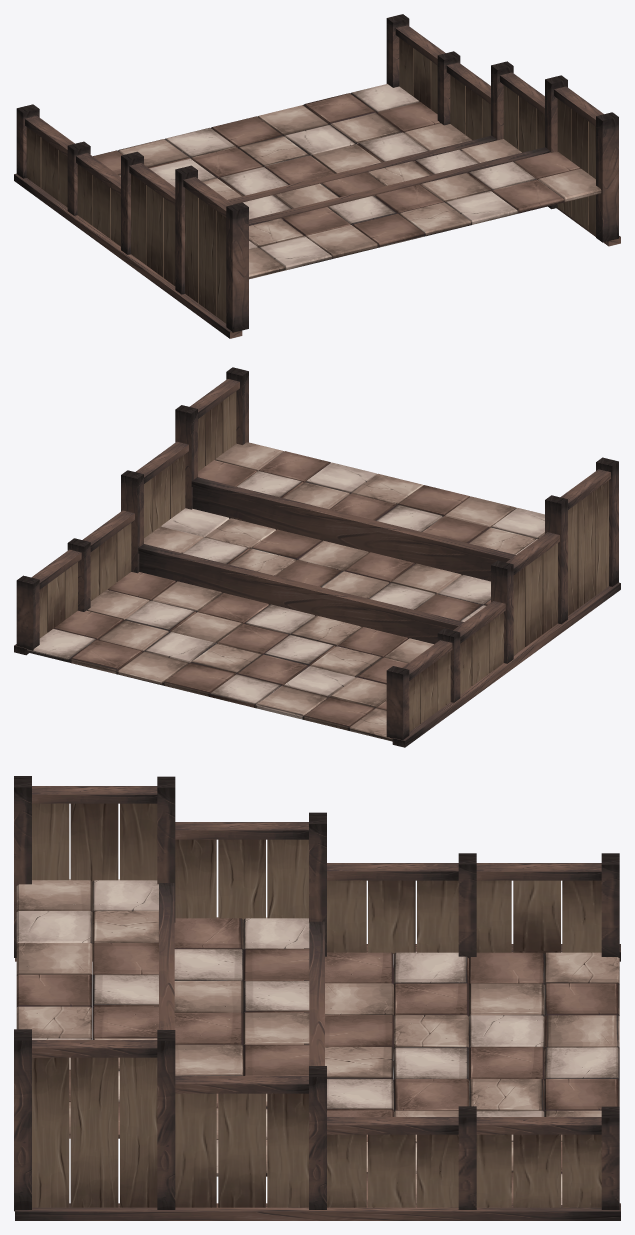
File: Floor_2_Steps_Straight_Walled.fbx
The picture shows the model from 3 angles, top to bottom: view 1: azimuth 30°, elevation 25°; view 2: azimuth 150°, elevation 25°; view 3: azimuth 270°, elevation 25°; orthographic projection. The views are drawn at different scales.
Parts seen in each view (by area): view 1: Floor_Stairs_2_Steps, Stair_Wood_Wall16; view 2: Floor_Stairs_2_Steps, Stair_Wood_Wall16; view 3: Stair_Wood_Wall16, Floor_Stairs_2_Steps.
Boxes of the visible parts, box(x1,y1,x2,y2) form: Floor_Stairs_2_Steps: box(93, 84, 601, 279); Stair_Wood_Wall16: box(14, 14, 620, 338); Floor_Stairs_2_Steps: box(27, 442, 544, 741); Stair_Wood_Wall16: box(14, 367, 620, 747); Stair_Wood_Wall16: box(14, 776, 620, 1220); Floor_Stairs_2_Steps: box(16, 879, 619, 1204).
Bounding box in the file's own units: 0.6311 × 0.1965 × 0.6045.
